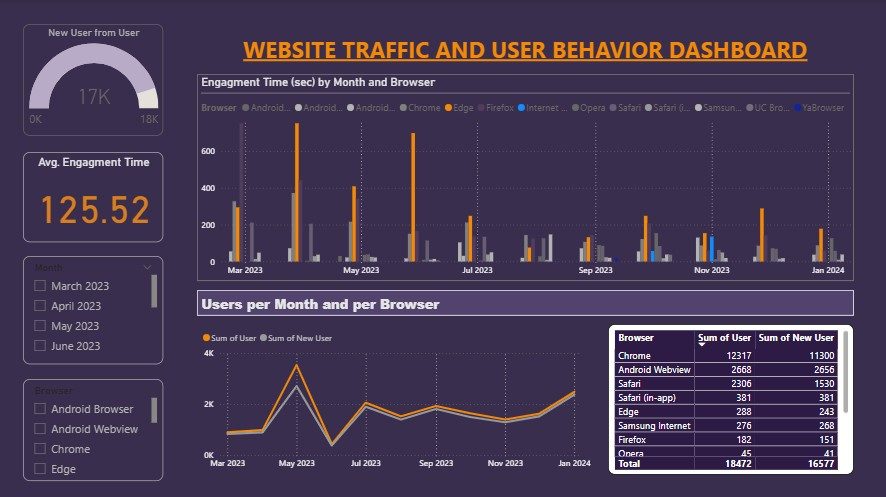

What the dashboard file says about the page in this screenshot:
{"tool":"powerbi","page":{"name":"Tech Monthly","canvas":[1280,720],"ordinal":0},"visuals":[{"type":"lineChart","fields":{"Category":["Tech Monthly.Month"],"Y":["Sum(Tech Monthly.User)","Sum(Tech Monthly.New User)"]},"box":[286.7,466.5,569.5,218.7],"z":2000},{"type":"textbox","box":[283.8,417.9,945.7,36.9],"z":3000},{"type":"tableEx","fields":{"Values":["Tech Monthly.Browser","Sum(Tech Monthly.User)","Sum(Tech Monthly.New User)"]},"box":[875.7,466.5,353.8,216.7],"z":4000},{"type":"clusteredColumnChart","title":"Engagment Time (sec) by Month and Browser","fields":{"Y":["Avg(Tech Monthly.Avg. Engagment Time (sec))"],"Category":["Tech Monthly.Month"],"Series":["Tech Monthly.Browser"]},"box":[283.8,106.9,945.7,298.4],"z":5000},{"type":"slicer","fields":{"Values":["Tech Monthly.Browser"]},"box":[33,546.2,202.2,146.8],"z":6000},{"type":"slicer","fields":{"Values":["Tech Monthly.Month"]},"box":[33,369.3,202.2,156.5],"z":7000},{"type":"gauge","title":"New User from User","fields":{"MaxValue":["Sum(Tech Monthly.User)"],"Y":["Sum(Tech Monthly.New User)"]},"box":[33,35,202.2,161.3],"z":8000},{"type":"textbox","box":[283.6,43,945.7,64.1],"z":9000},{"type":"card","title":"Avg. Engagment Time","fields":{"Values":["Avg(Tech Monthly.Avg. Engagment Time (sec))"]},"box":[33,218.7,202.2,130.2],"z":10000}]}

Visuals, with their boxes in screenshot pixels (x1, y1, x2, y2), scaled from the page's 1280x720 canvas onto the 886x497 screenshot:
lineChart - Tech Monthly.Month x Sum(Tech Monthly.User): bbox=(198, 322, 593, 473)
textbox: bbox=(196, 288, 851, 314)
tableEx - Tech Monthly.Browser x Sum(Tech Monthly.User): bbox=(606, 322, 851, 472)
"Engagment Time (sec) by Month and Browser" clusteredColumnChart: bbox=(196, 74, 851, 280)
slicer - Tech Monthly.Browser: bbox=(23, 377, 163, 478)
slicer - Tech Monthly.Month: bbox=(23, 255, 163, 363)
"New User from User" gauge: bbox=(23, 24, 163, 136)
textbox: bbox=(196, 30, 851, 74)
"Avg. Engagment Time" card: bbox=(23, 151, 163, 241)
